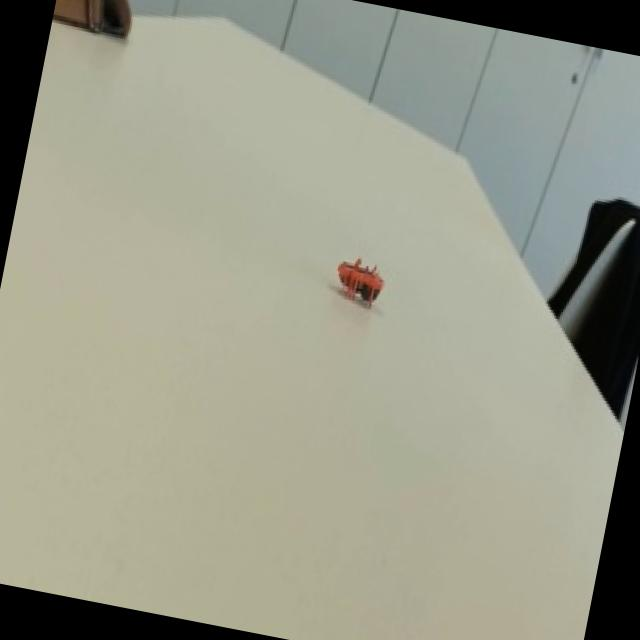7_NanoBug_Naranja: (321, 241, 404, 326)
